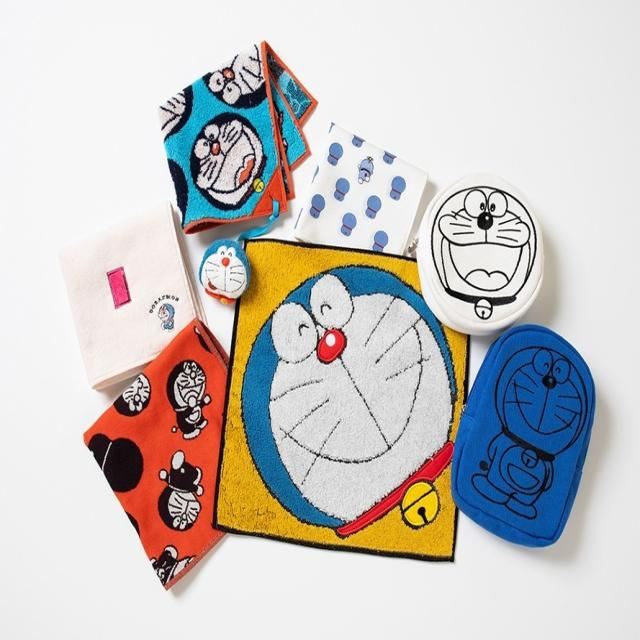doraemon: (240, 252, 471, 558), (422, 181, 554, 312), (490, 331, 596, 471), (185, 100, 280, 221), (160, 354, 219, 435), (198, 230, 253, 302)
